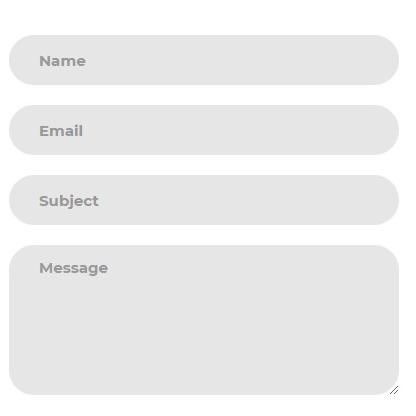field: (5, 242, 404, 398), (9, 29, 404, 90), (6, 103, 406, 157), (8, 174, 399, 228)
